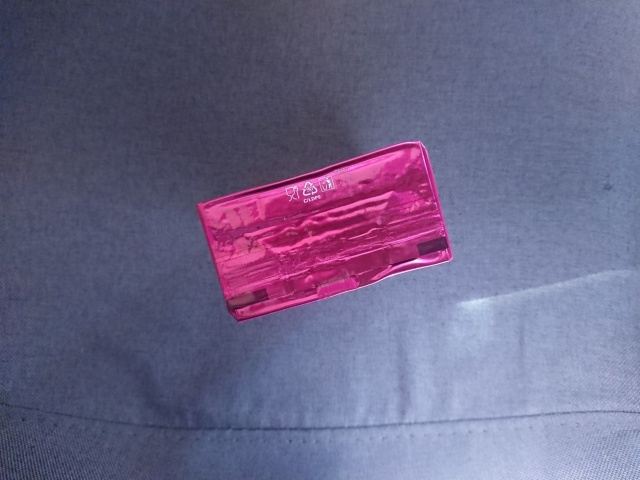Barcaffe Classic Original 225g: (193, 138, 455, 325)
